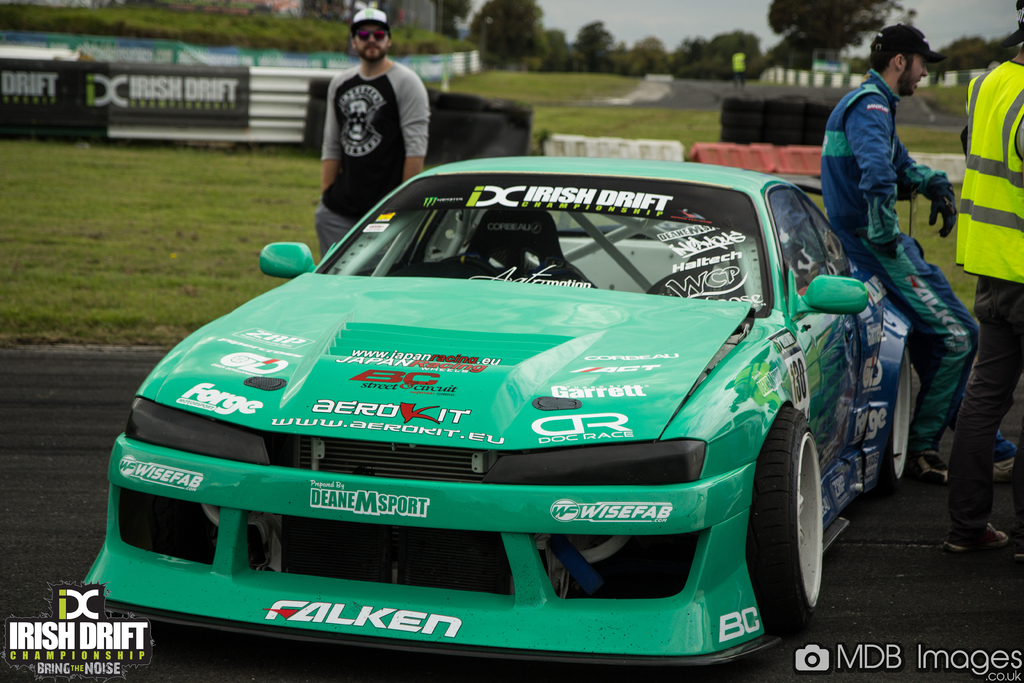Car: (81, 155, 917, 670)
